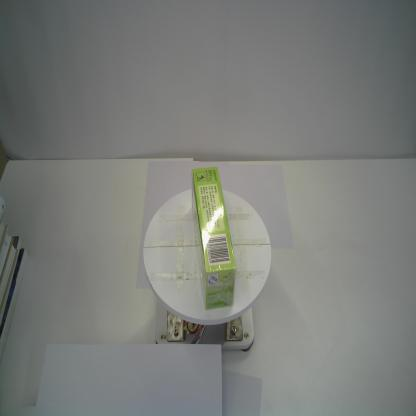Instant Drink: (191, 166, 237, 309)
